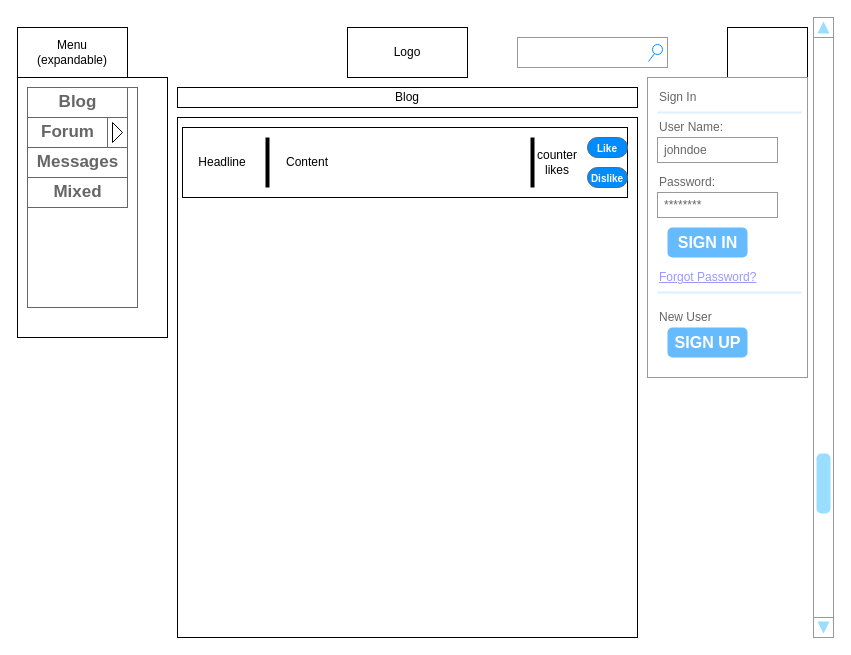
The diagram is 851 pixels wide and 655 high, and some of its shapes have lost their labels. The shapes that lost their labels are listed below. From the top down, each one's centre as x and y in pixels, then its label:
At (592,52): "Search".
At (767,52): "Profile".
